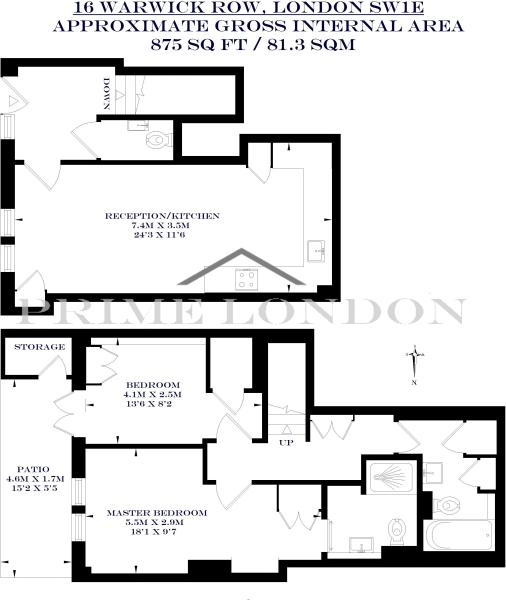GardenMeasurements: (2, 381, 68, 574)
GrossArea: (26, 15, 479, 57)
